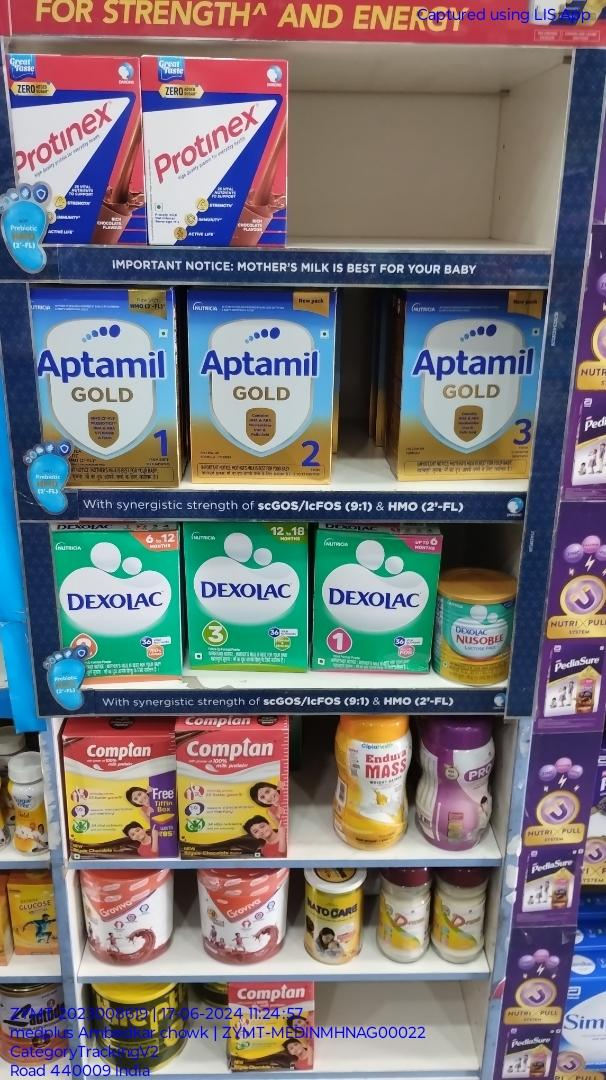COMPLAN_CHOCOLATE_500_GMS_PACK: (179, 729, 288, 855), (66, 737, 172, 858), (228, 986, 314, 1071)
